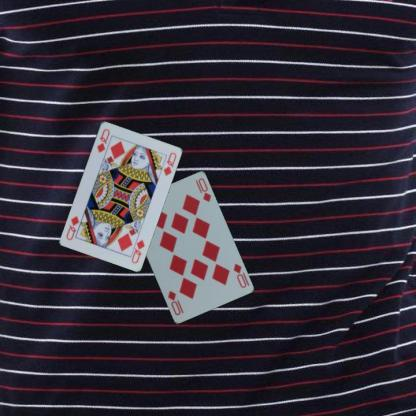10d: (230, 260, 247, 289)
Qd: (127, 233, 146, 264), (94, 126, 111, 154)
